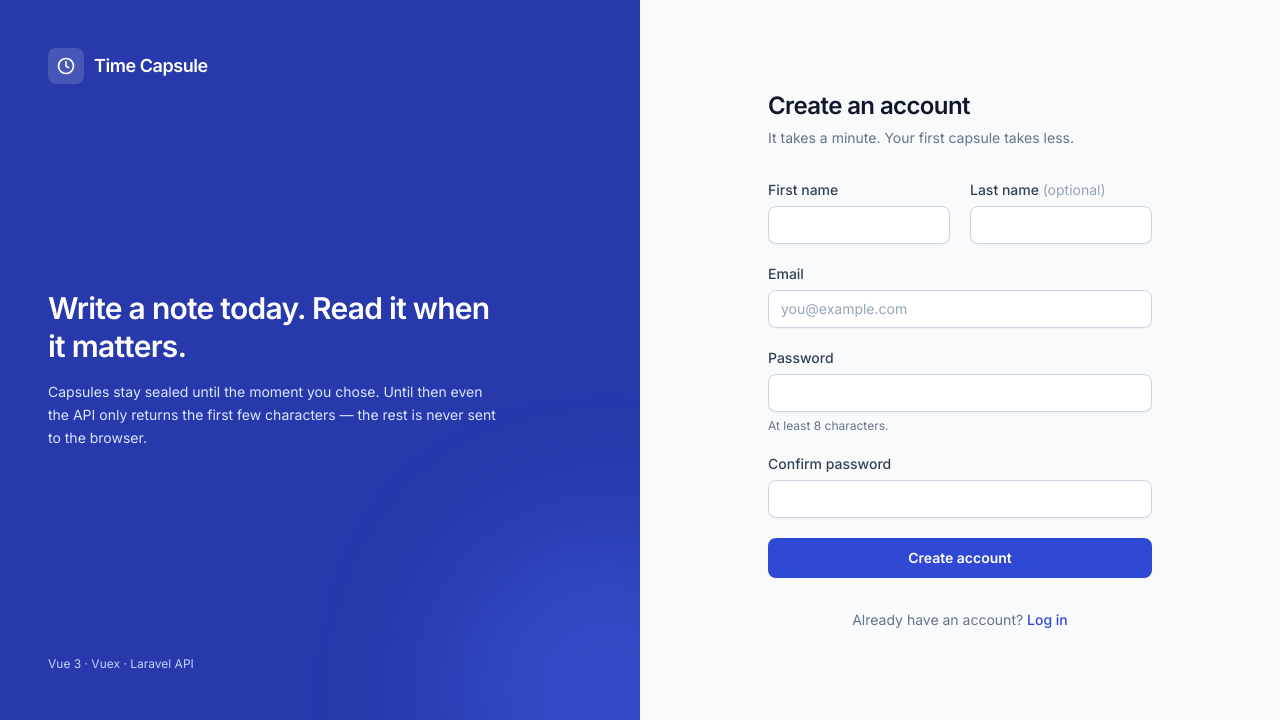
Test: SignupView › shows per-field messages from a 422
Type "Dana" into the field with id "firstName". click: {"x": 859, "y": 225}
box: [768,206,950,244]
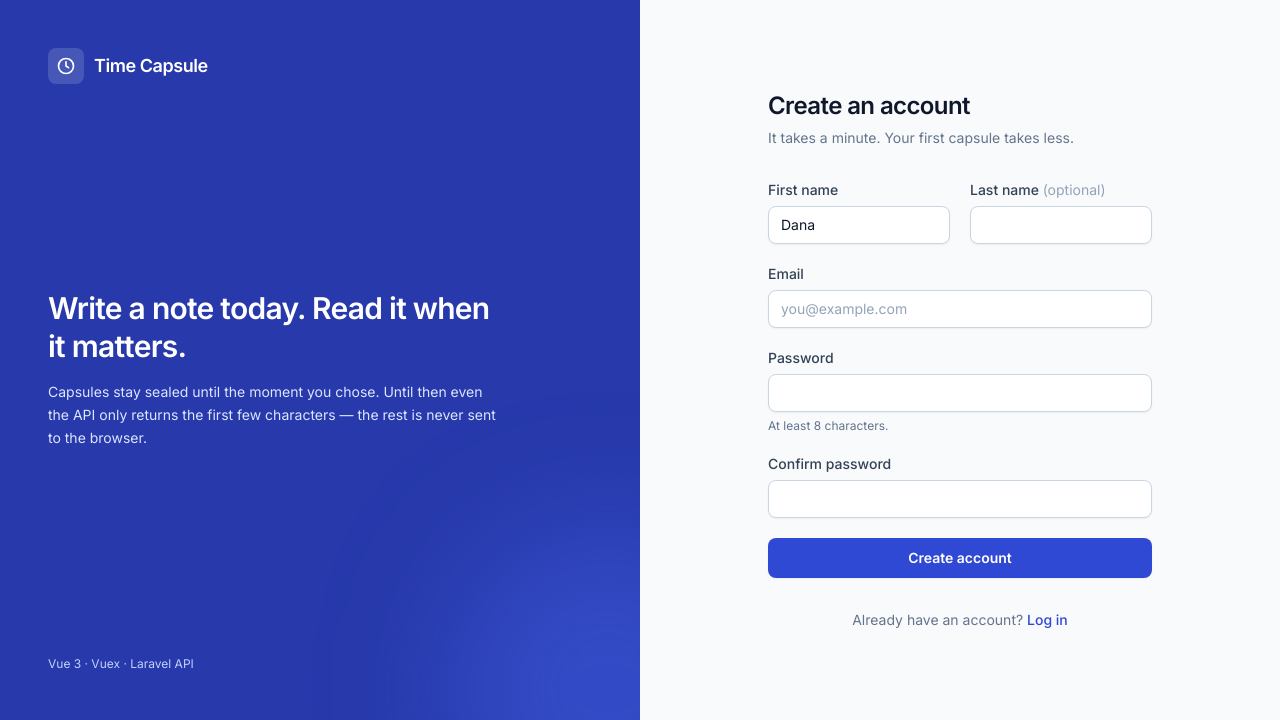
Type "Ruiz" into the field with id "lastName". click: {"x": 1061, "y": 225}
box: [970,206,1152,244]
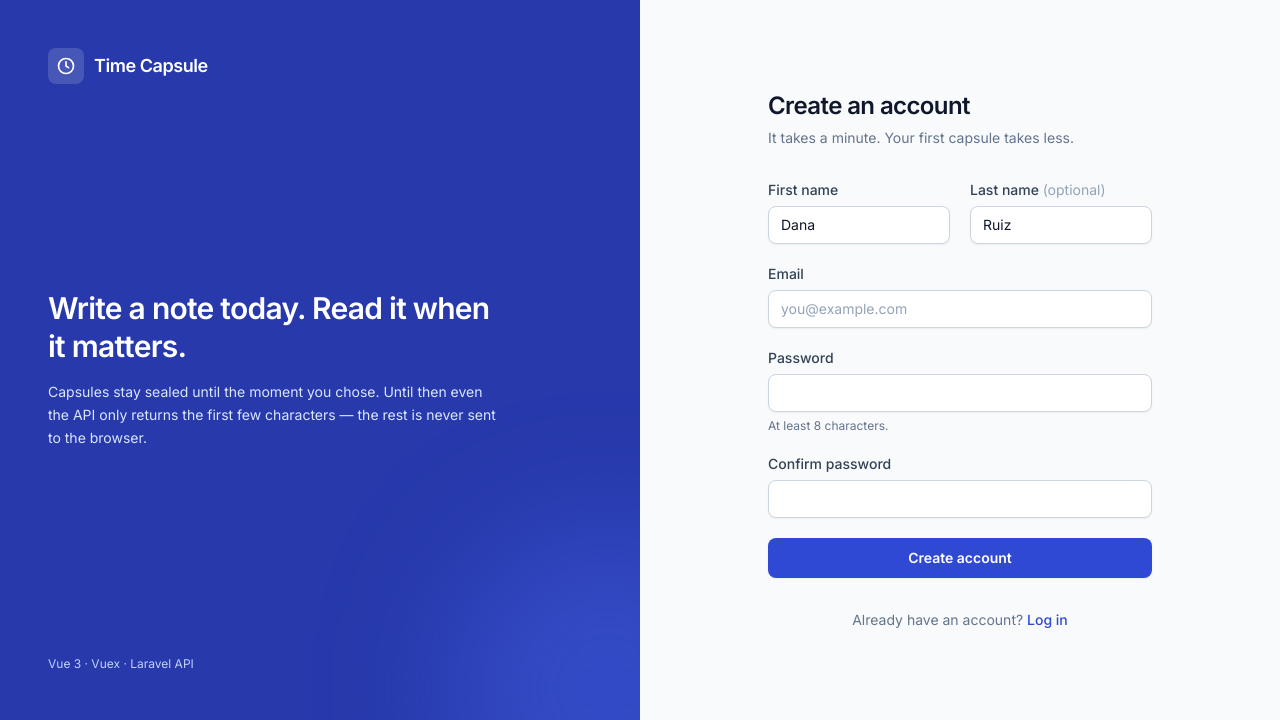
Type "dana@example.com" into the field with id "email". click: {"x": 960, "y": 309}
box: [768,290,1152,328]
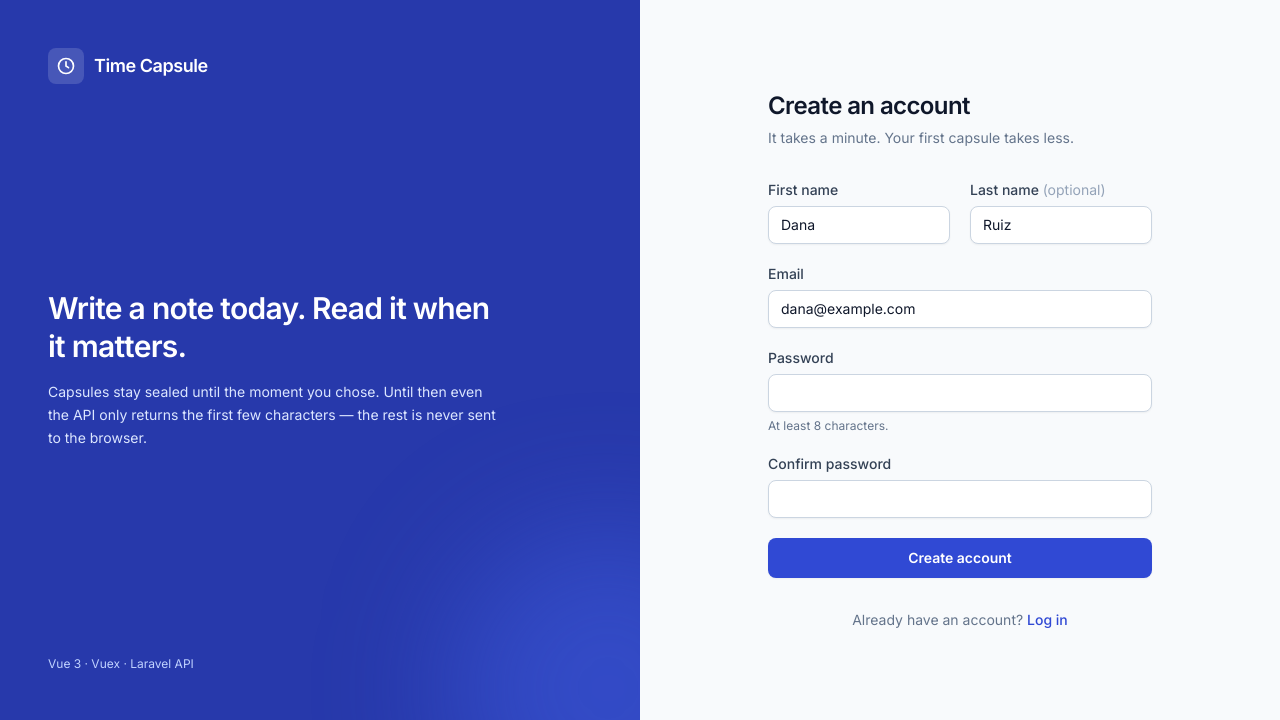
Type "secret123" into the password field labelled "Password". click: {"x": 960, "y": 393}
box: [768,374,1152,412]
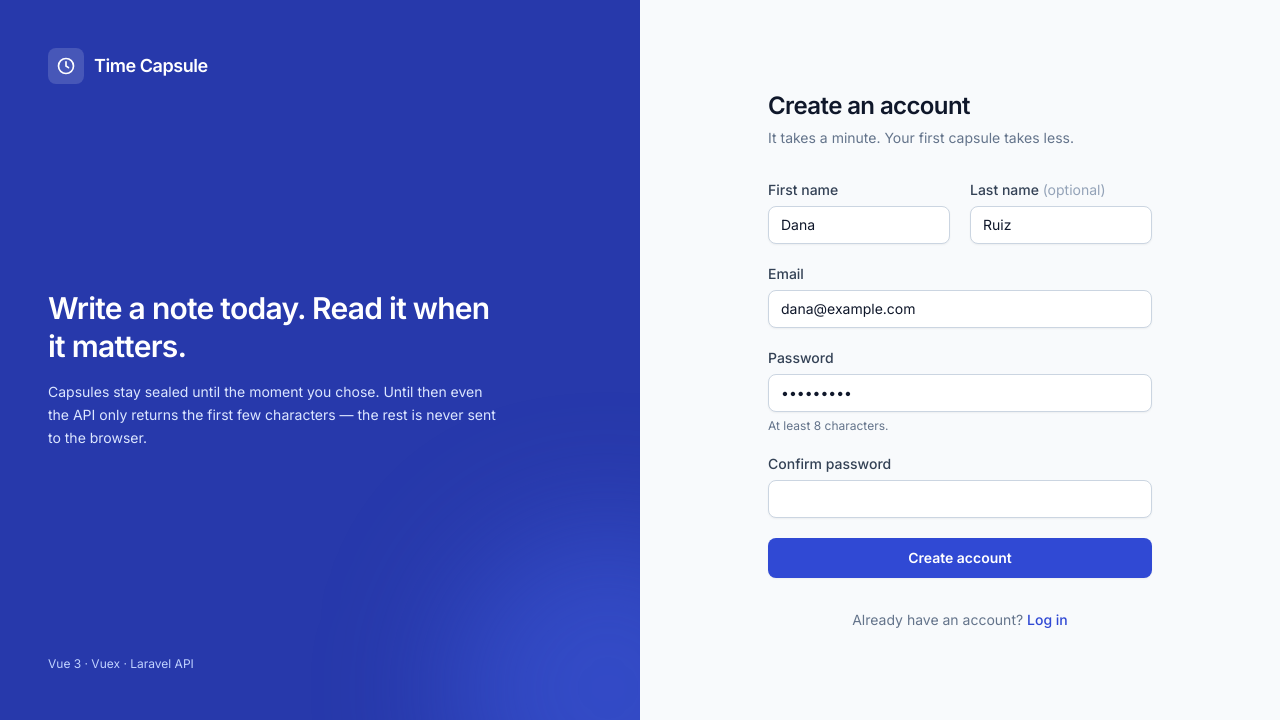
Type "secret123" into the password field labelled "Confirm password". click: {"x": 960, "y": 499}
box: [768,480,1152,518]
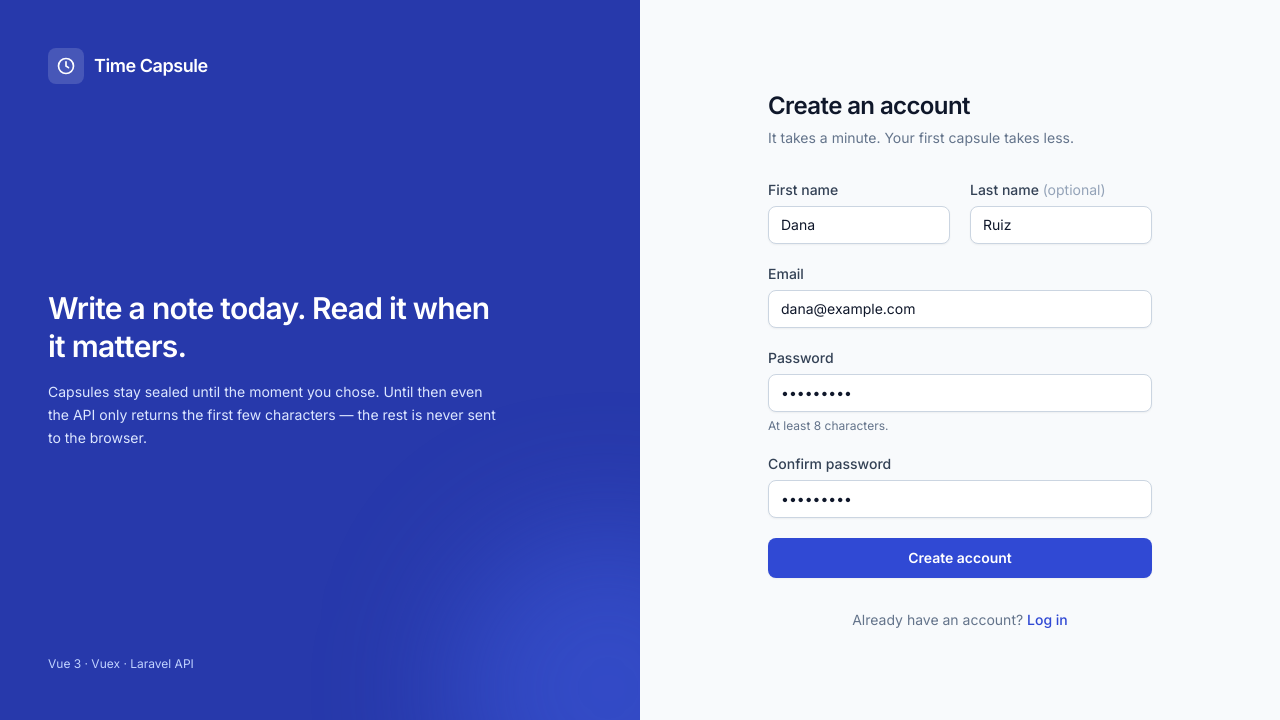
Submit the form, box [768,180,1152,578]
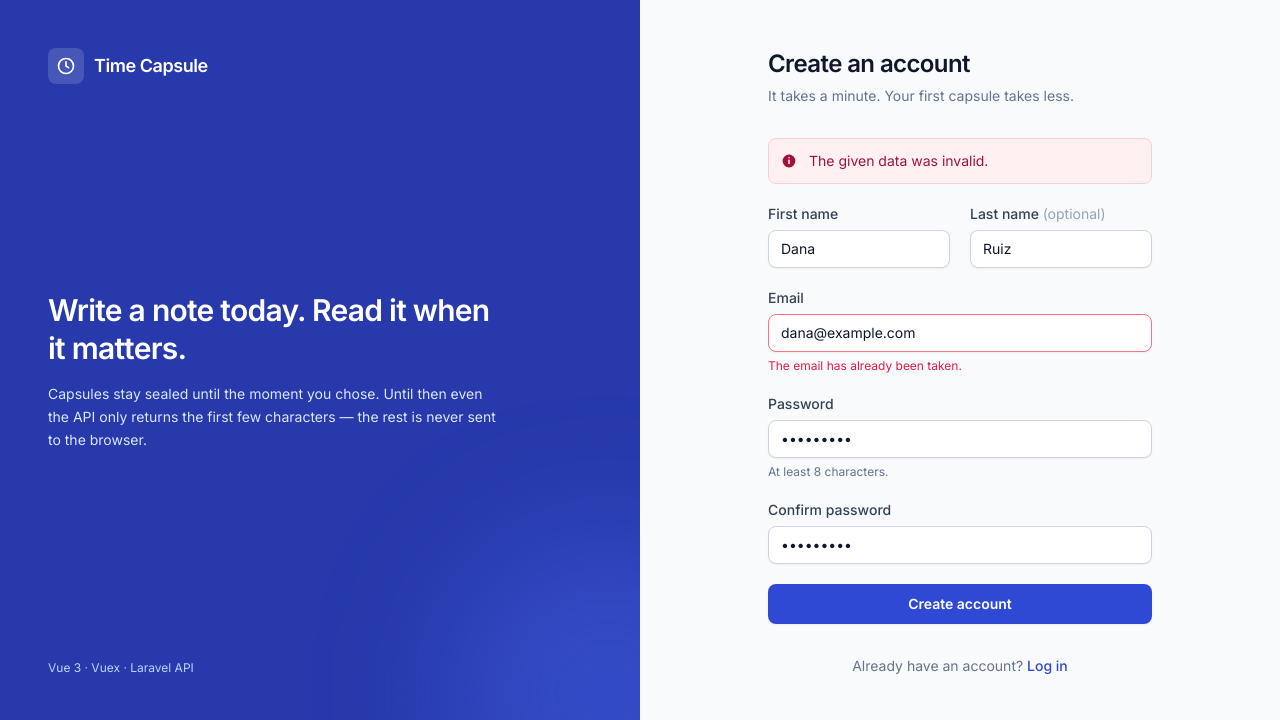
expect the text "The email has already been taken." is shown: met, box [768,358,962,373]
